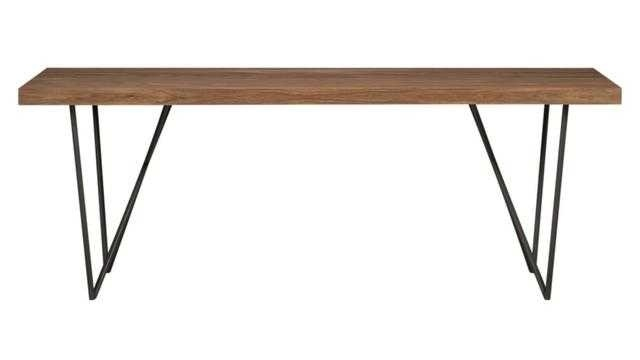obstacle: (19, 68, 620, 298)
